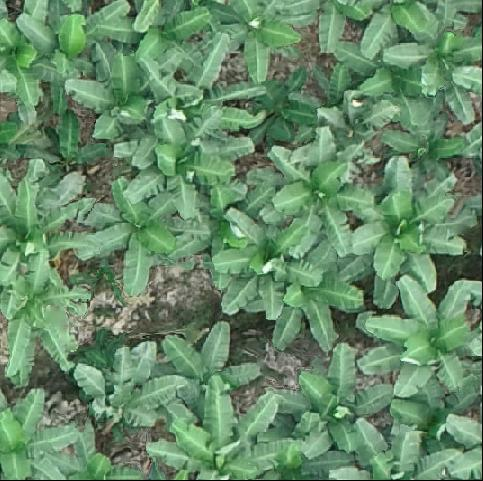Banana-plant: (357, 160, 463, 307), (356, 279, 483, 401), (153, 375, 279, 481), (272, 344, 392, 453), (154, 31, 261, 147), (118, 113, 233, 219), (214, 206, 319, 322), (0, 160, 89, 293), (395, 0, 483, 124), (79, 184, 185, 285), (2, 261, 86, 385), (278, 245, 373, 346), (72, 349, 175, 437), (158, 325, 262, 411), (208, 0, 306, 88), (24, 0, 124, 85), (69, 56, 165, 142), (391, 379, 483, 458), (332, 422, 453, 481), (0, 389, 76, 481), (106, 0, 209, 60), (3, 13, 49, 127), (320, 95, 399, 161), (384, 118, 462, 179)
